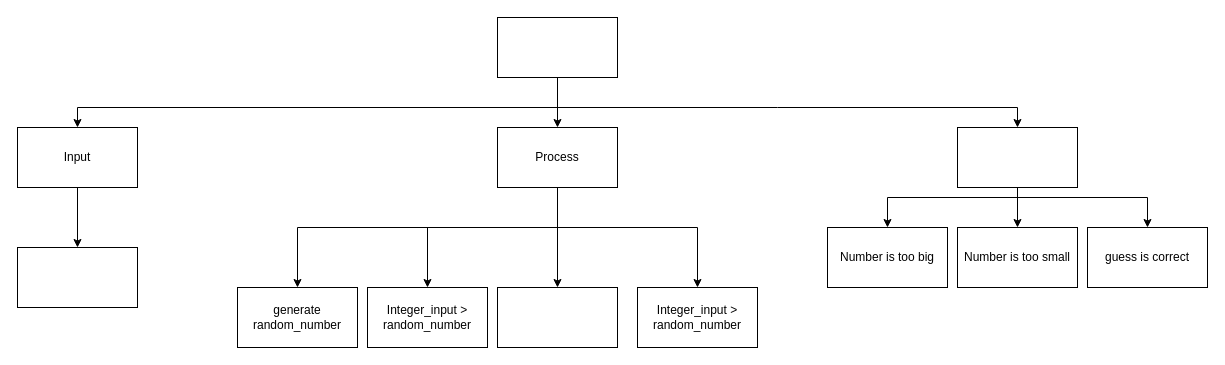
Some shapes in this 1225 by 365 pixel diagram are drawn without their labels. The box of each missing label's shape, as (x1, y1, x2, y2) in pixels:
Enter your number: (16, 246, 138, 308)
Integer_input < random_number: (496, 286, 618, 348)
Output: (956, 126, 1078, 188)
The sum of number loop: (496, 16, 618, 78)
